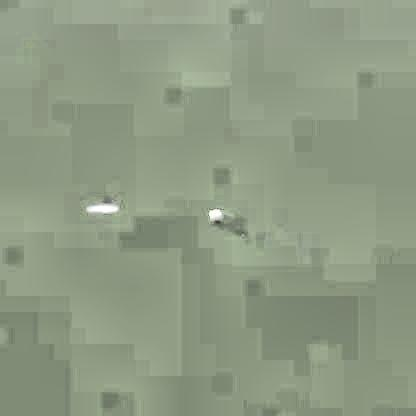golfball: (206, 205, 220, 220)
